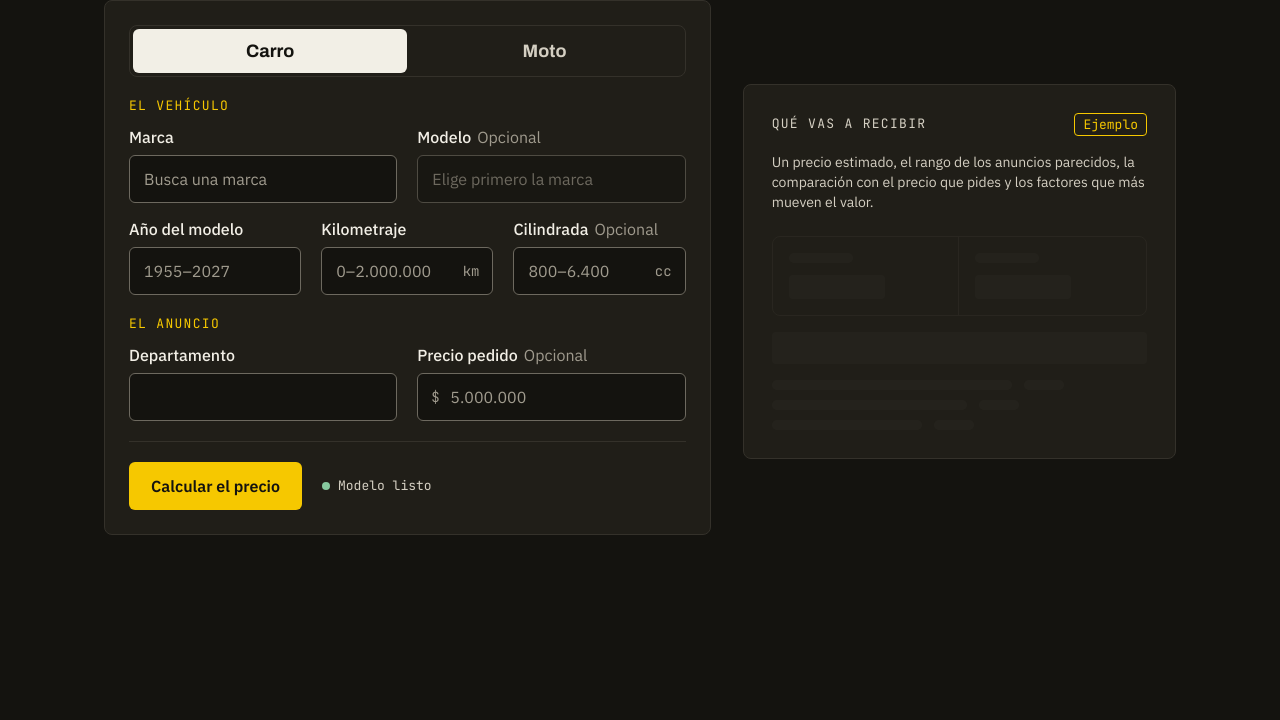
Test: the asking price floor › rejects a price under the floor the service enforces
This screenshot has width=1280, height=720.
Expected: the text "Modelo listo" is shown, 322,477 -> 432,496
In the field labelled "Precio pedido": (551, 397) 417,373 -> 686,421, type "59"
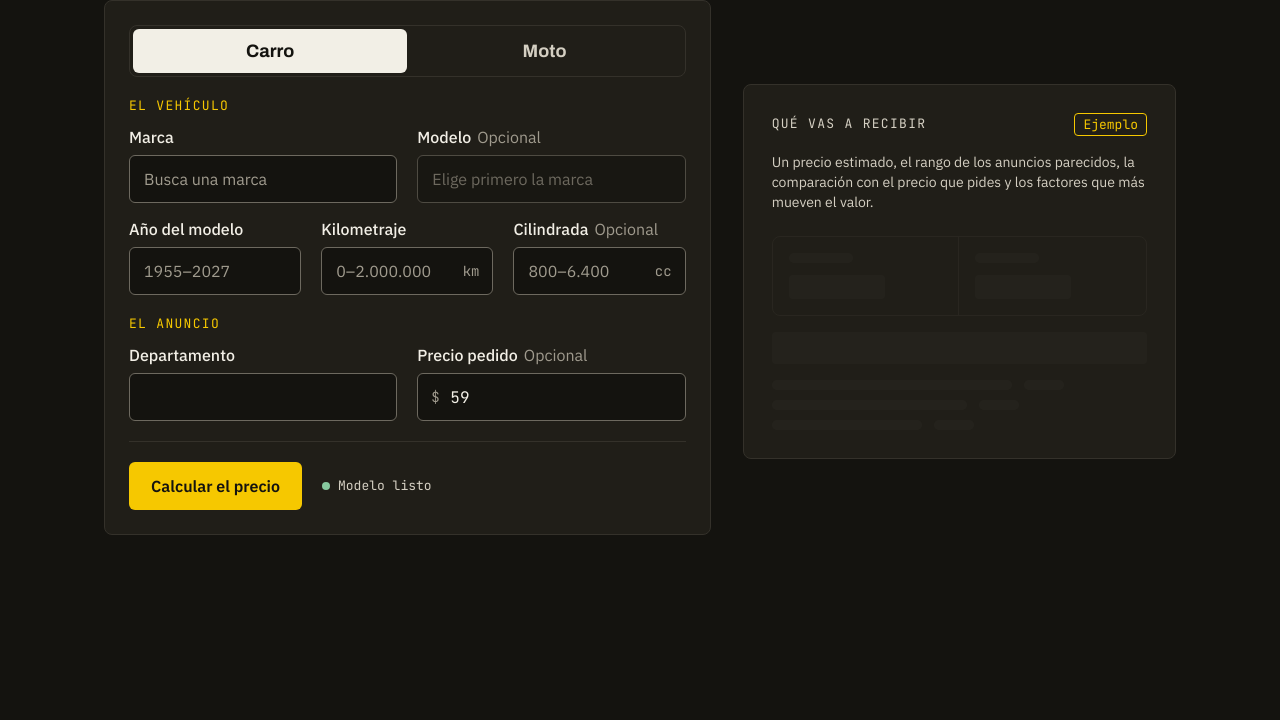
Leave the field labelled "Precio pedido", box 417,373 -> 686,421
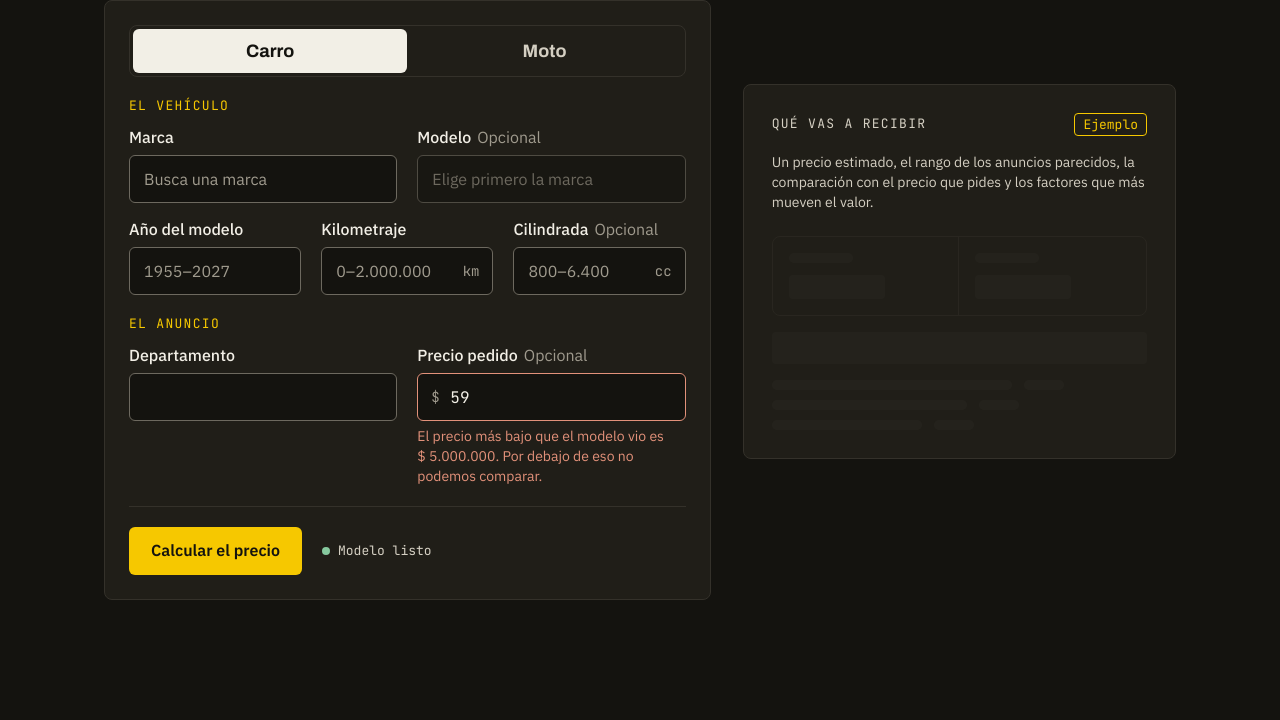
Expected: the text "El precio más bajo que el modelo vio es" is shown, 417,427 -> 664,485
